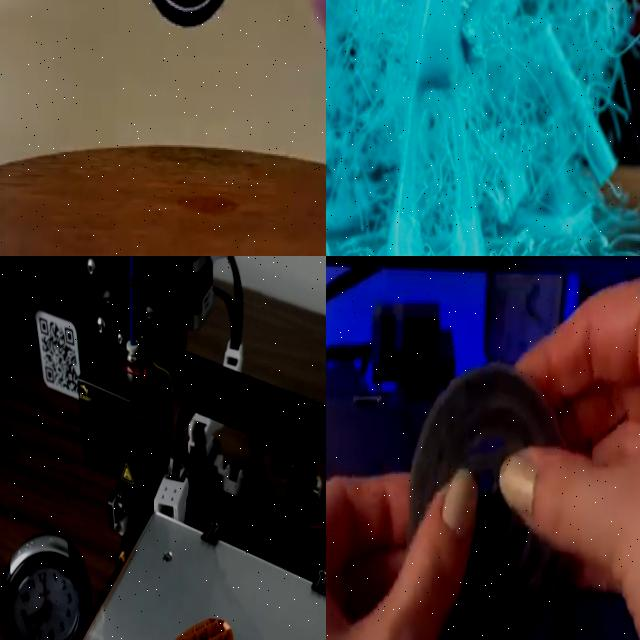spaghetti: (456, 0, 632, 216), (326, 0, 417, 248)
